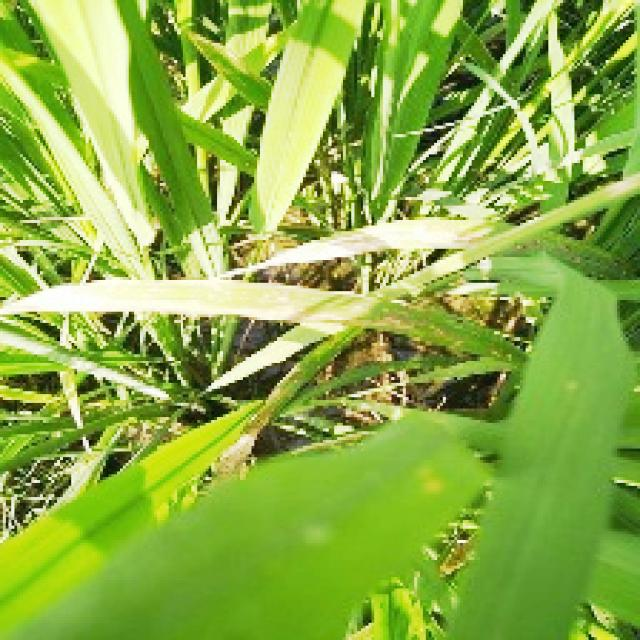health: (0, 0, 407, 334)
